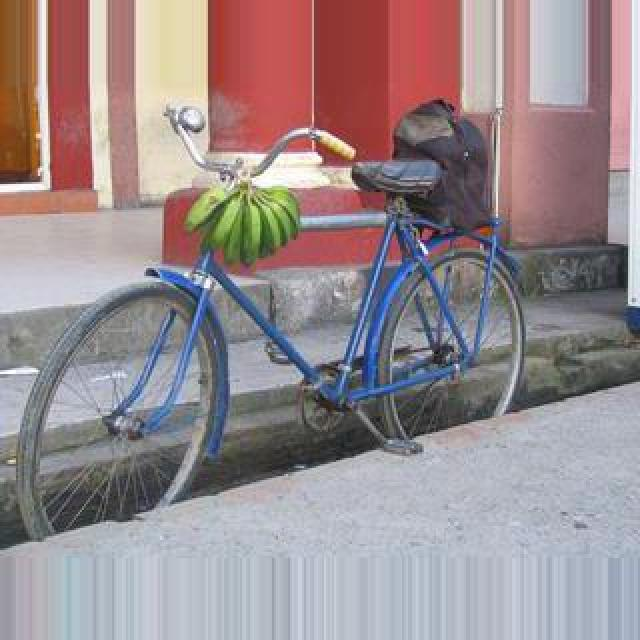Person: (7, 107, 551, 517)
